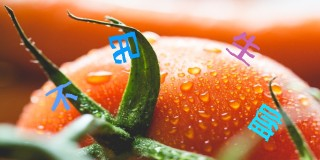不: (44, 80, 78, 111)
民: (109, 31, 140, 65)
生: (226, 32, 259, 66)
聊: (247, 102, 282, 141)
